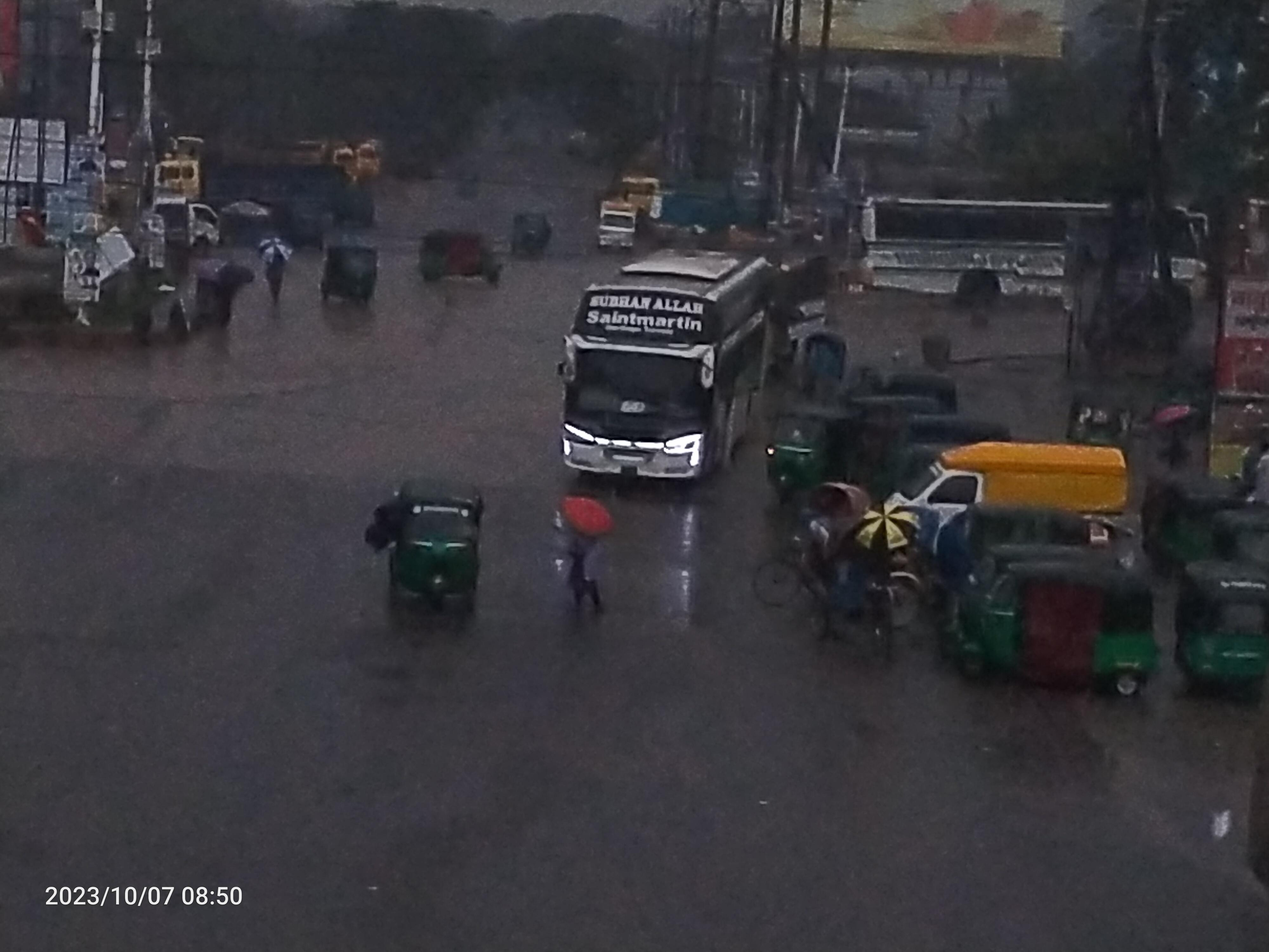Bus: (530, 228, 808, 512), (841, 160, 1253, 326)
Car: (872, 426, 1150, 547), (582, 174, 648, 258)
Truck: (122, 119, 376, 234)
